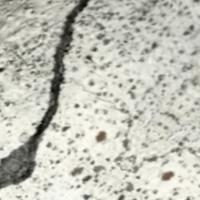crack: (0, 0, 102, 186)
